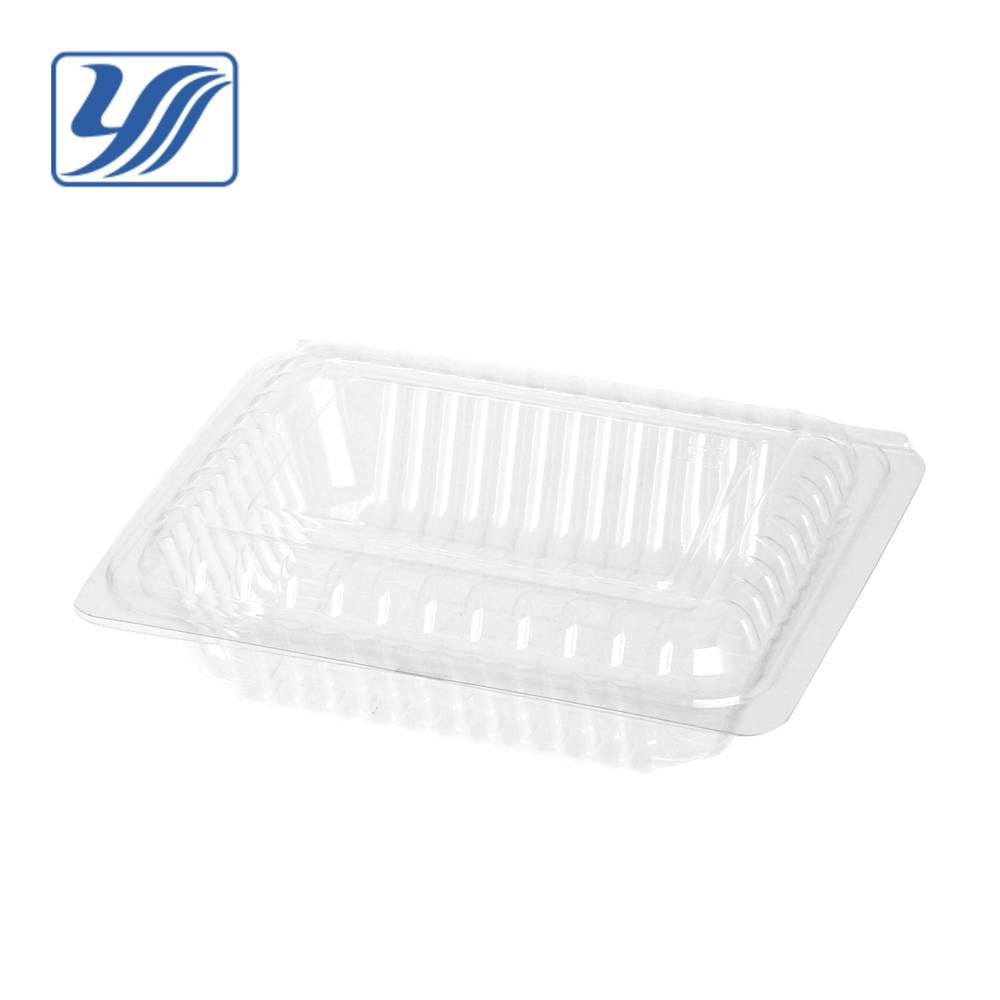PlasticBox: (60, 326, 935, 783)
